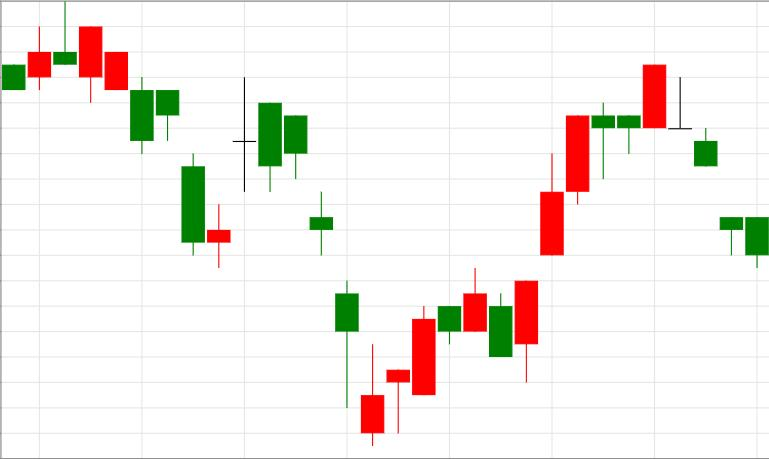inverse_hammer_rise: (233, 76, 384, 445)
